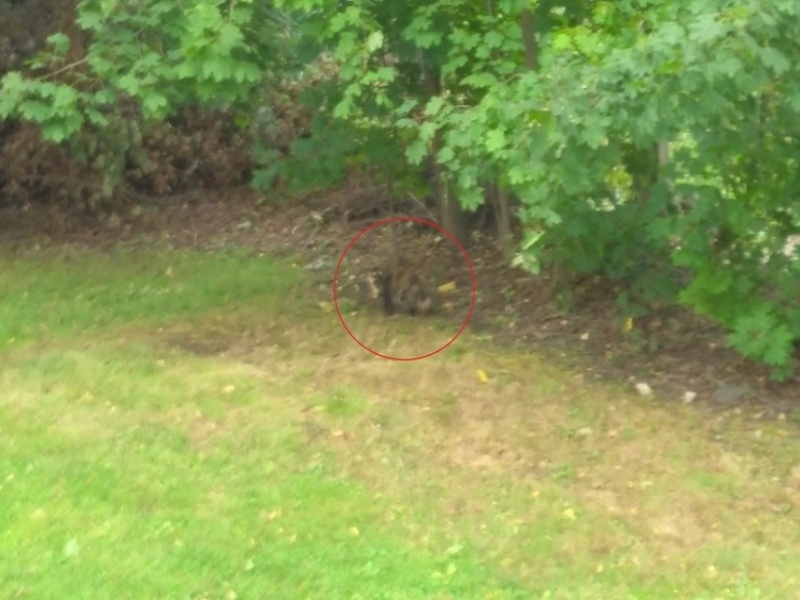cat: (364, 262, 437, 319)
